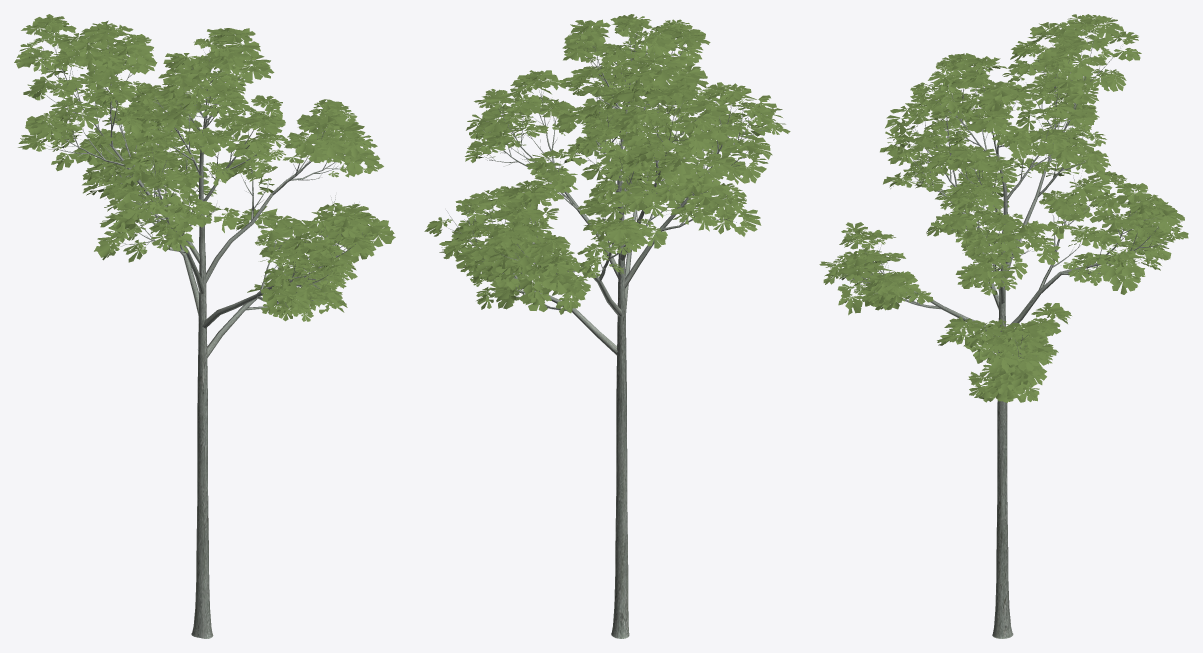
File: tree.glb
3 renders of one model, left to right at view 1: azimuth 30°, elevation 25°; view 2: azimuth 150°, elevation 25°; view 3: azimuth 270°, elevation 25°, orthographic. The views are drawn at different scales.
Visible parts, largest first — view 1: StaticModelFinal_m_2.4, StaticModelFinal_m_1.3; view 2: StaticModelFinal_m_2.4, StaticModelFinal_m_1.3; view 3: StaticModelFinal_m_2.4, StaticModelFinal_m_1.3.
Part boxes in pixels (bbox=[...]): StaticModelFinal_m_2.4: bbox=[14, 14, 395, 321]; StaticModelFinal_m_1.3: bbox=[36, 30, 365, 638]; StaticModelFinal_m_2.4: bbox=[424, 14, 790, 314]; StaticModelFinal_m_1.3: bbox=[446, 32, 767, 638]; StaticModelFinal_m_2.4: bbox=[819, 14, 1188, 402]; StaticModelFinal_m_1.3: bbox=[844, 36, 1169, 638].
Size of the model in its own units: 3694 by 6538 by 3838.
2 materials, 1 textured.
